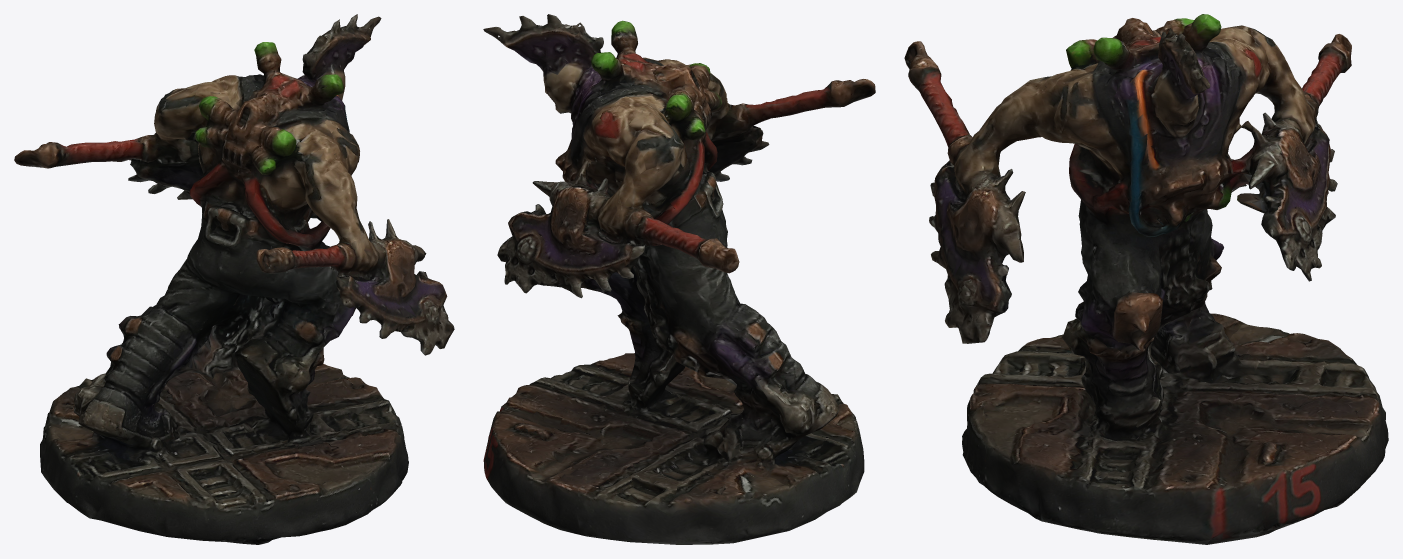
The model's file is Goliaths_15_blender.obj.
The picture shows the model from 3 angles, left to right: view 1: azimuth 30°, elevation 25°; view 2: azimuth 150°, elevation 25°; view 3: azimuth 270°, elevation 25°; orthographic projection. The views are drawn at different scales.
Parts seen in each view (by area): view 1: Goliaths_15_zephyr; view 2: Goliaths_15_zephyr; view 3: Goliaths_15_zephyr.
Boxes of the visible parts, <box> form: Goliaths_15_zephyr: <box>14,14,454,544</box>; Goliaths_15_zephyr: <box>483,14,875,544</box>; Goliaths_15_zephyr: <box>904,14,1388,544</box>.
Bounding box in the file's own units: 1.59 × 1.94 × 1.74.
Materials: 1 (1 with a texture image).
